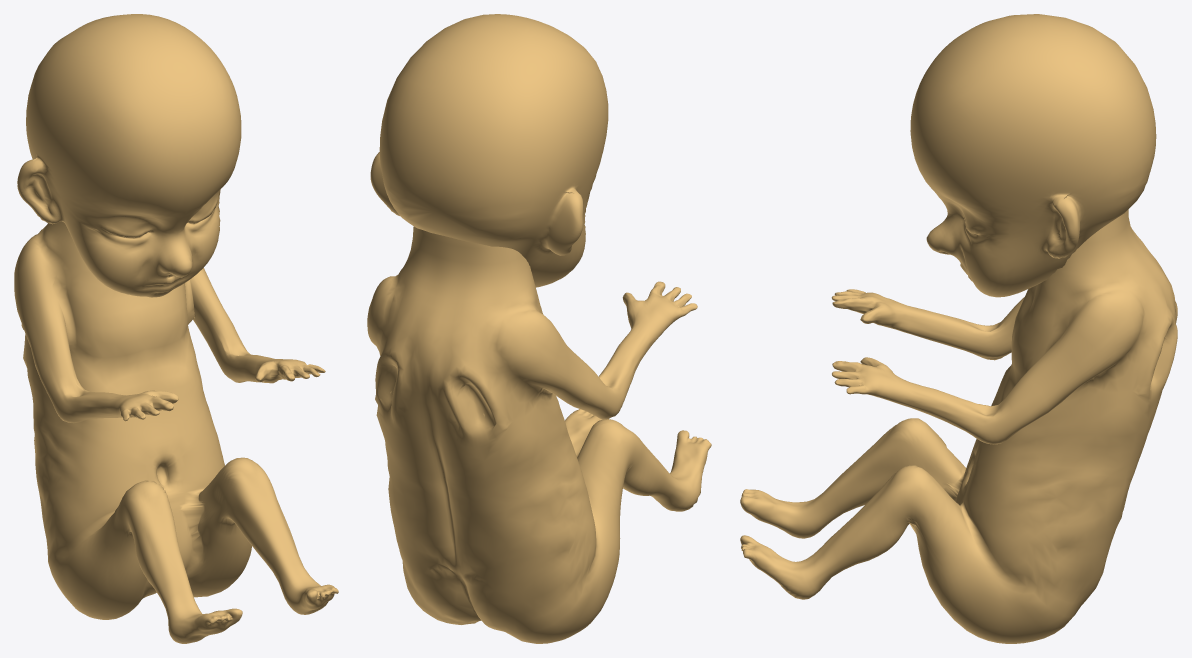
Rendered from embrio 1.fbx.
3 views of the same model, side by side, from view 1: azimuth 30°, elevation 25°; view 2: azimuth 150°, elevation 25°; view 3: azimuth 270°, elevation 25° (orthographic). The views are drawn at different scales.
Parts seen in each view (by area): view 1: RetopoFlow.003; view 2: RetopoFlow.003; view 3: RetopoFlow.003.
Part boxes in pixels (x1,y1,x2,y2): RetopoFlow.003: [14, 14, 338, 643]; RetopoFlow.003: [367, 14, 711, 643]; RetopoFlow.003: [740, 14, 1177, 643].
Bounding box in the file's own units: 177 × 480 × 321.
